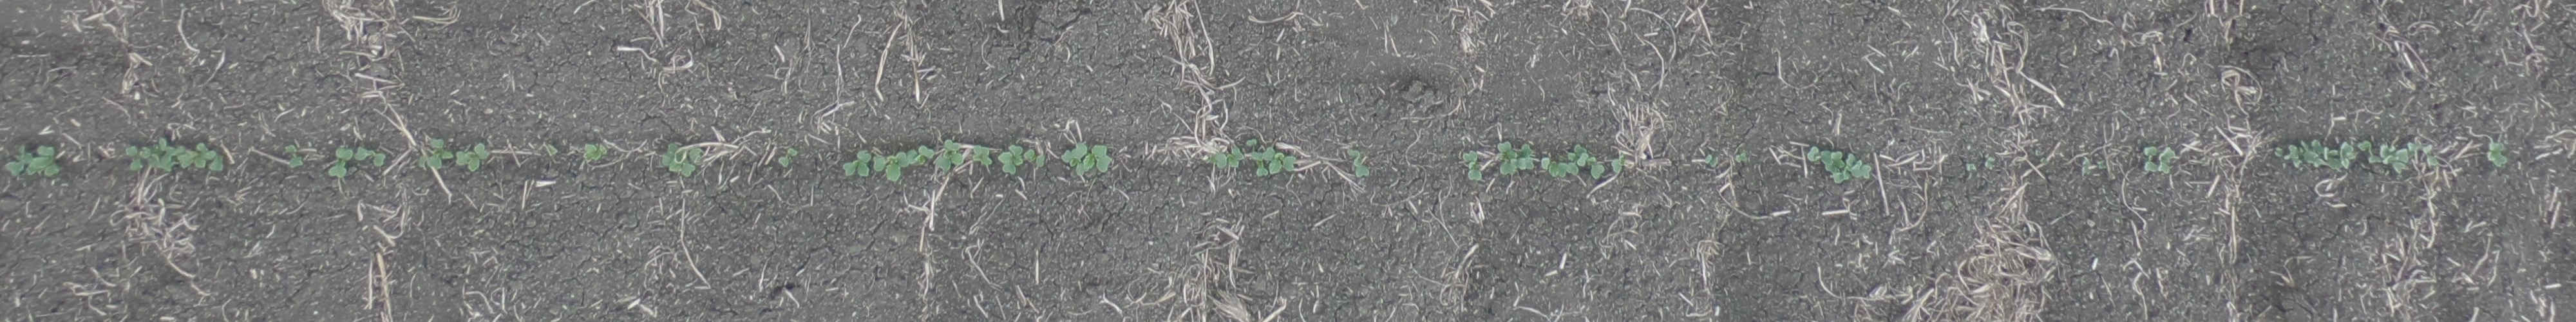plant: (2356, 140, 2441, 172), (2274, 140, 2354, 172), (1807, 146, 1873, 184), (1541, 143, 1605, 179), (5, 145, 59, 177), (125, 138, 176, 172), (1063, 141, 1112, 176), (662, 143, 703, 177), (1249, 148, 1296, 177), (1497, 141, 1534, 176), (177, 143, 223, 171), (872, 151, 910, 181), (455, 141, 490, 172), (419, 140, 453, 169), (935, 140, 964, 172), (2144, 146, 2177, 174), (329, 146, 355, 177), (844, 149, 872, 177), (1344, 149, 1370, 177), (999, 145, 1023, 174), (1207, 148, 1244, 168), (1460, 151, 1483, 181), (355, 146, 386, 168), (2486, 143, 2509, 168), (910, 145, 933, 166), (2081, 158, 2108, 176), (779, 146, 800, 168), (284, 145, 304, 168), (971, 145, 992, 164), (583, 143, 606, 161), (1025, 149, 1045, 168), (1610, 153, 1626, 174), (1704, 154, 1720, 168), (2035, 149, 2049, 166), (1965, 161, 1978, 174), (1985, 156, 1998, 169), (1735, 151, 1748, 161)
